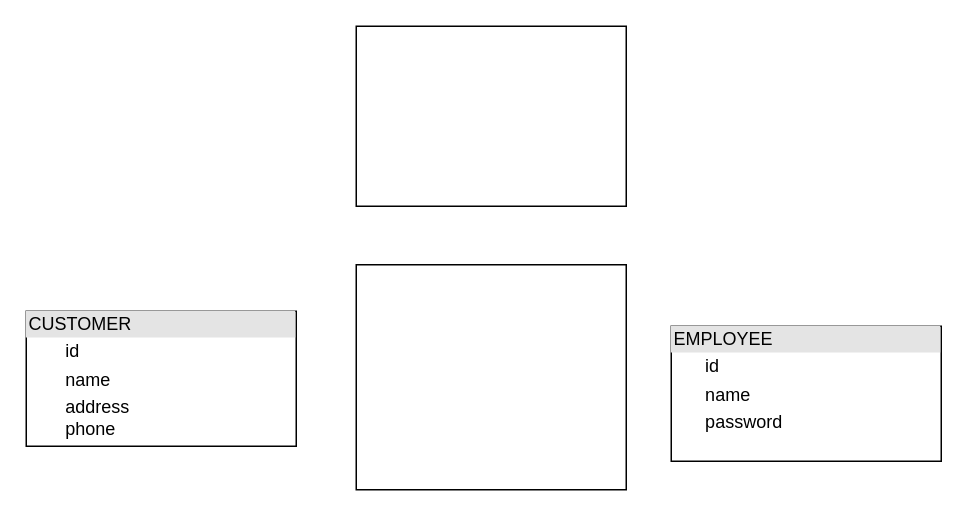
Image size: 968x516. Some labels were removed from this diagram. Here are the shapes that lost their labels. From the top down, the centre of each, then its label:
point (490, 115): PRODUCT id price name photo stock-level
point (490, 376): ORDER id productId employeeId customerId qty
